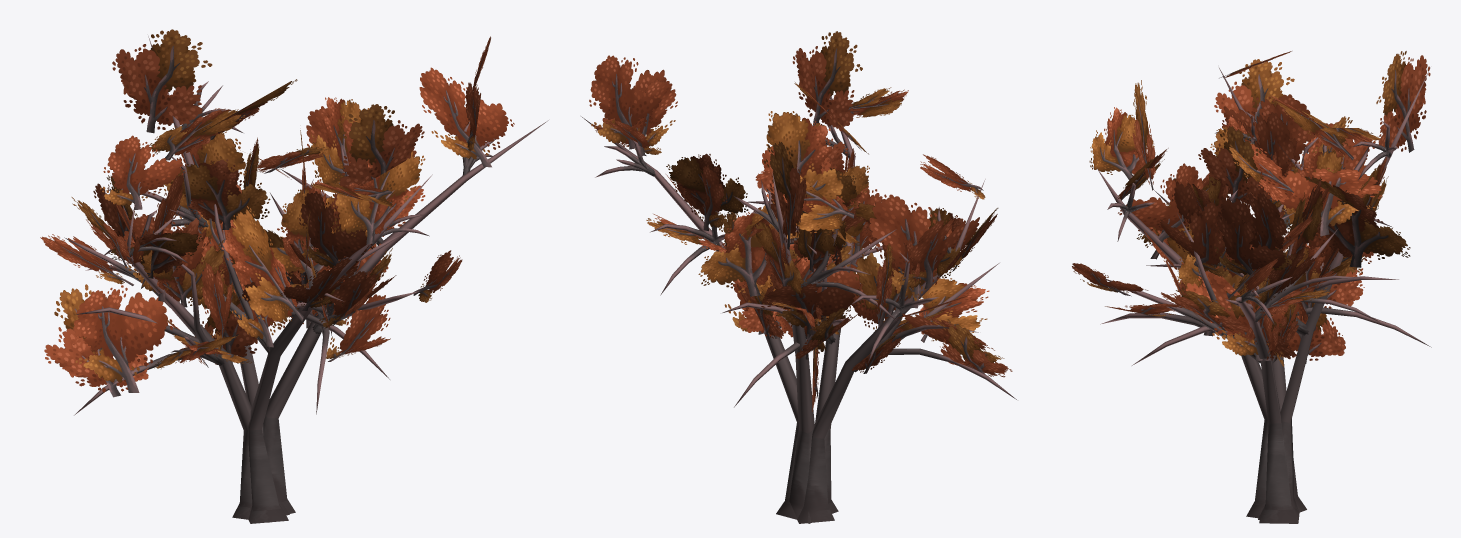
File: Tree.fbx
The picture shows the model from 3 angles, left to right: view 1: azimuth 30°, elevation 25°; view 2: azimuth 150°, elevation 25°; view 3: azimuth 270°, elevation 25°; orthographic projection. The views are drawn at different scales.
Parts seen in each view (by area): view 1: Tree.015; view 2: Tree.015; view 3: Tree.015.
Boxes of the visible parts, box(x1,y1,x2,y2) form: Tree.015: box(40, 29, 548, 523); Tree.015: box(581, 31, 1016, 523); Tree.015: box(1072, 51, 1431, 523).
Size of the model in its own units: 1194 by 1057 by 806.
